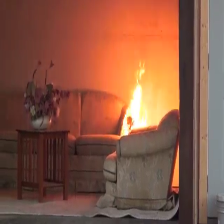fire_h: (121, 79, 145, 136), (134, 62, 144, 83)
fire_l: (169, 144, 179, 194)
